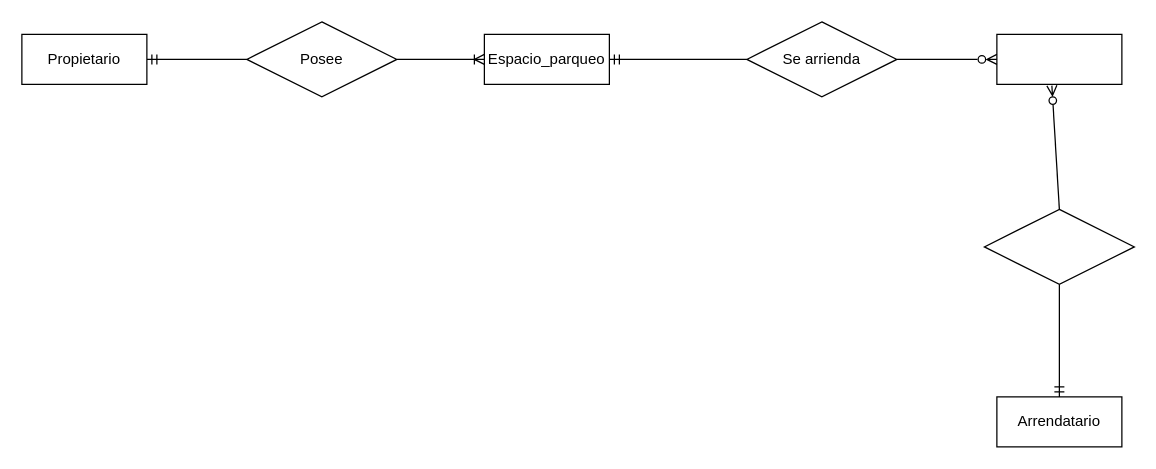
This 1156x469 diagram has some shape labels left out. Each missing label, with the centre of its shape:
Arrendamiento: point 1059,58
Se da para: point 1058,246
